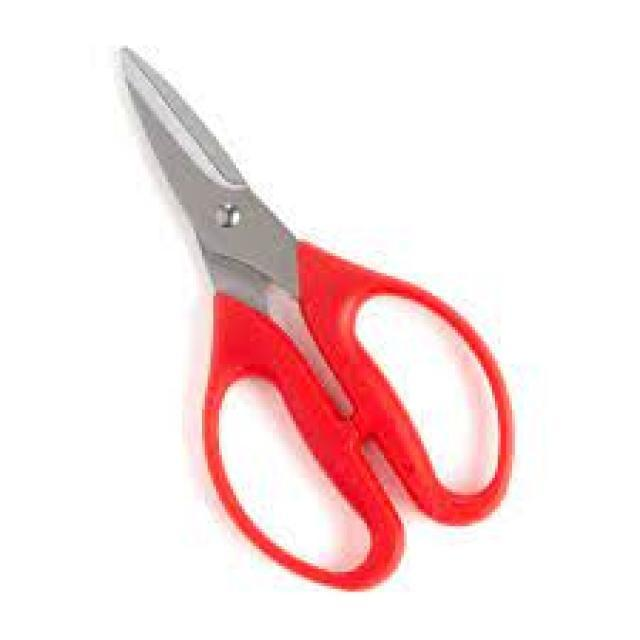tesoura: (121, 49, 512, 589)
